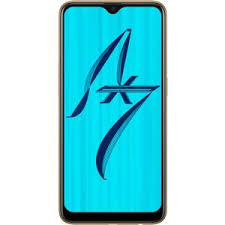oppo: (54, 1, 169, 222)
